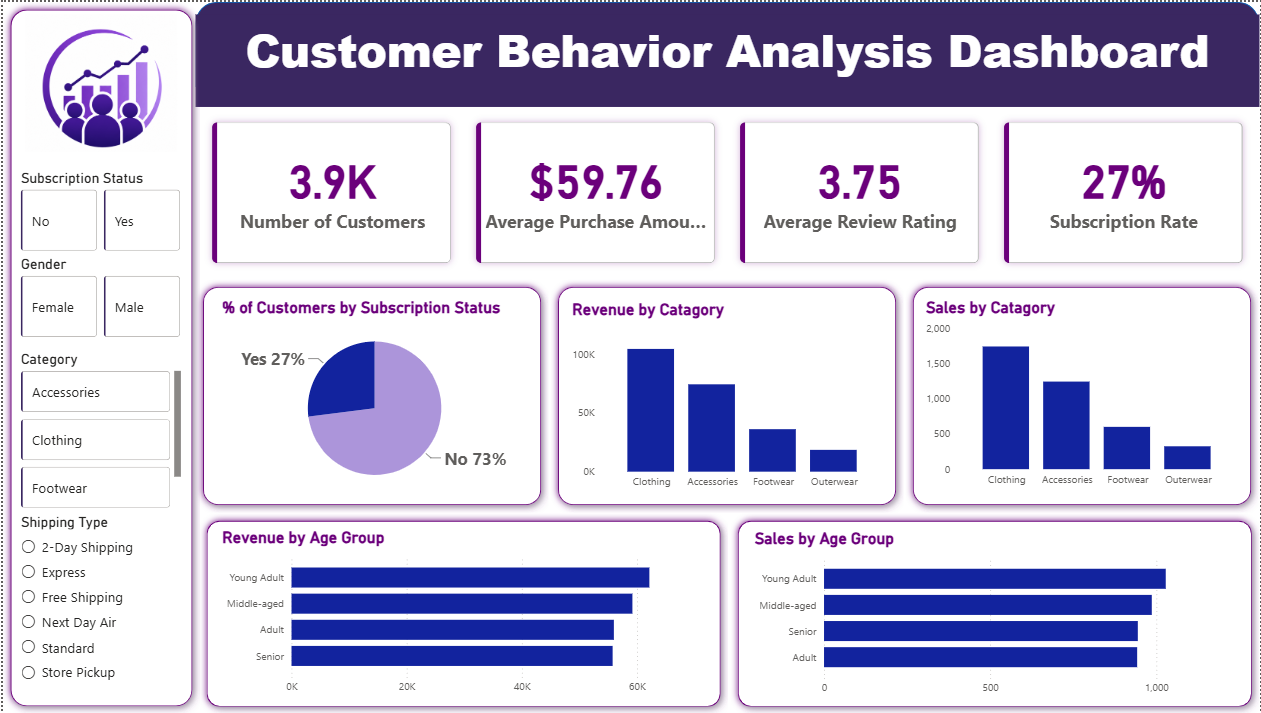

This screenshot's page, from the dashboard's own definition file:
{"tool":"powerbi","page":{"name":"Page 1","canvas":[1500,850],"ordinal":0},"visuals":[{"type":"cardVisual","fields":{"Data":["customer_behavior customer.Number of Customers","customer_behavior customer.Average Purchase Amount","customer_behavior customer.Average Review Rating"]},"box":[230,123.3,1270,208.3],"z":0},{"type":"shape","box":[230,0,1270,101.4],"z":1000},{"type":"textbox","box":[230,14.3,1270,110],"z":2000},{"type":"shape","box":[234.3,610,631.4,240],"z":3000},{"type":"shape","box":[868.6,610,631.4,240],"z":4000},{"type":"shape","box":[230,331.7,421.7,278.3],"z":5000},{"type":"shape","box":[654.2,331.7,421.7,278.3],"z":6000},{"type":"shape","box":[1078.3,331.7,421.7,278.3],"z":7000},{"type":"donutChart","title":"% of Customers by Subscription Status","fields":{"Category":["customer_behavior customer.subscription_status"],"Y":["CountNonNull(customer_behavior customer.customer_id)"]},"box":[251.4,357.1,385.7,234.3],"z":8000},{"type":"clusteredColumnChart","title":"Revenue by Catagory","fields":{"Category":["customer_behavior customer.category"],"Y":["Sum(customer_behavior customer.purchase_amount)"]},"box":[674.3,357.1,381.4,234.3],"z":9000},{"type":"clusteredColumnChart","title":"Sales by Catagory","fields":{"Category":["customer_behavior customer.category"],"Y":["CountNonNull(customer_behavior customer.customer_id)"]},"box":[1097.1,354.3,381.4,234.3],"z":10000},{"type":"shape","box":[0,0,235,850],"z":11000},{"type":"advancedSlicerVisual","title":"Subscription Status","fields":{"Values":["customer_behavior customer.subscription_status"]},"box":[15.7,200,201.4,102.9],"z":12000},{"type":"advancedSlicerVisual","title":"Gender","fields":{"Values":["customer_behavior customer.gender"]},"box":[15.7,302.9,201.4,102.9],"z":13000},{"type":"advancedSlicerVisual","title":"Category","fields":{"Values":["customer_behavior customer.category"]},"box":[15.7,415.7,201.4,194.3],"z":14000},{"type":"listSlicer","title":"Shipping Type","fields":{"Values":["customer_behavior customer.shipping_type"]},"box":[17.1,610,200,220],"z":15000},{"type":"clusteredBarChart","title":"Revenue by Age Group","fields":{"Category":["customer_behavior customer.age_group"],"Y":["Sum(customer_behavior customer.purchase_amount)"]},"box":[257.1,628.6,584.3,207.1],"z":16000},{"type":"clusteredBarChart","title":"Sales by Age Group","fields":{"Category":["customer_behavior customer.age_group"],"Y":["CountNonNull(customer_behavior customer.customer_id)"]},"box":[892.9,630,584.3,207.1],"z":17000},{"type":"image","box":[0,14.3,234.3,164.3],"z":18000}]}

Visuals, with their boxes in screenshot pixels (x1, y1, x2, y2), scaled from the page's 1500x850 canvas onto the 1261x713 screenshot:
cardVisual - customer_behavior customer.Number of Customers x customer_behavior customer.Average Purchase Amount: Rect(193, 103, 1260, 278)
shape: Rect(193, 0, 1260, 85)
textbox: Rect(193, 12, 1260, 104)
shape: Rect(197, 512, 728, 712)
shape: Rect(730, 512, 1260, 712)
shape: Rect(193, 278, 548, 512)
shape: Rect(550, 278, 904, 512)
shape: Rect(906, 278, 1260, 512)
"% of Customers by Subscription Status" donutChart: Rect(211, 300, 536, 496)
"Revenue by Catagory" clusteredColumnChart: Rect(567, 300, 887, 496)
"Sales by Catagory" clusteredColumnChart: Rect(922, 297, 1243, 494)
shape: Rect(0, 0, 198, 712)
"Subscription Status" advancedSlicerVisual: Rect(13, 168, 183, 254)
"Gender" advancedSlicerVisual: Rect(13, 254, 183, 340)
"Category" advancedSlicerVisual: Rect(13, 349, 183, 512)
"Shipping Type" listSlicer: Rect(14, 512, 183, 696)
"Revenue by Age Group" clusteredBarChart: Rect(216, 527, 707, 701)
"Sales by Age Group" clusteredBarChart: Rect(751, 528, 1242, 702)
image: Rect(0, 12, 197, 150)
